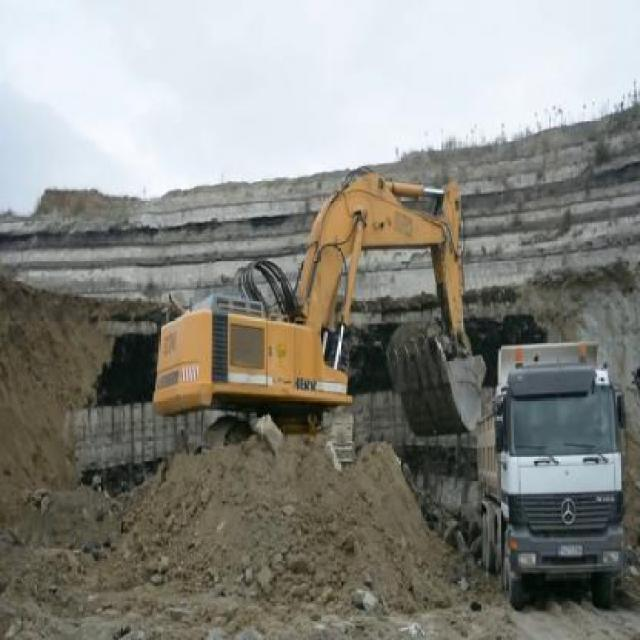Dump Truck: (474, 344, 626, 613)
Excavator: (152, 163, 477, 455)
